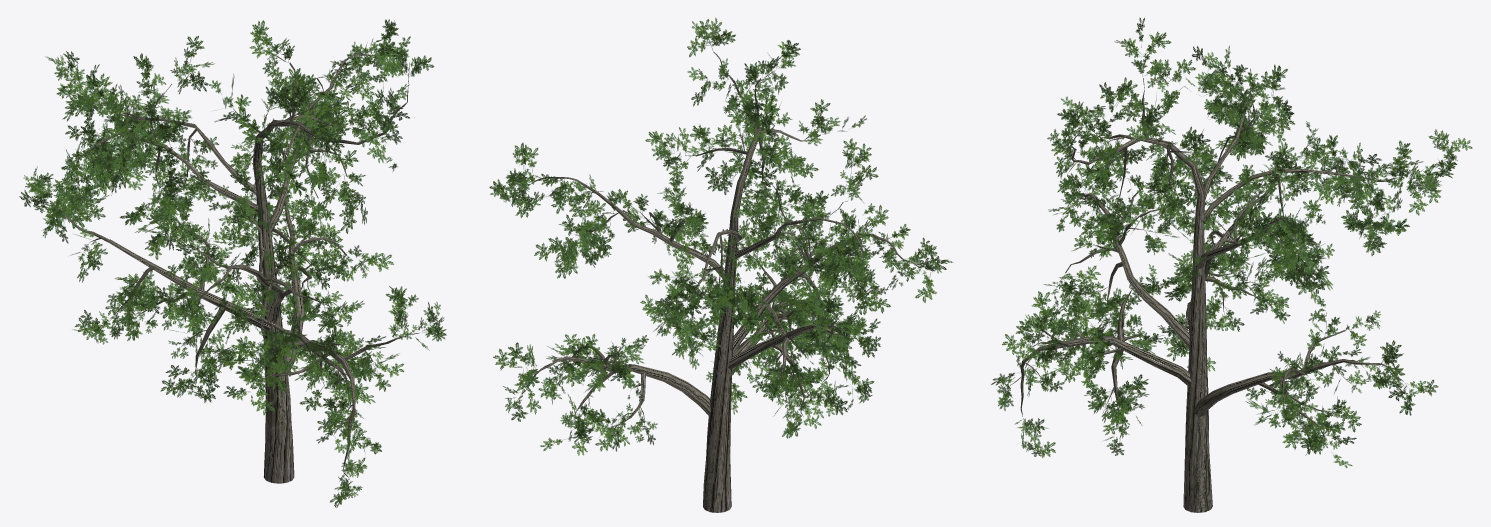
File: fresno_mediano.glb
3 views of the same model, side by side, from view 1: azimuth 30°, elevation 25°; view 2: azimuth 150°, elevation 25°; view 3: azimuth 270°, elevation 25° (orthographic). The views are drawn at different scales.
Visible parts, largest first — view 1: fresno_mediano_hojas, fresno_mediano_ramas; view 2: fresno_mediano_hojas, fresno_mediano_ramas; view 3: fresno_mediano_hojas, fresno_mediano_ramas.
Part boxes in pixels (bbox=[...]): fresno_mediano_hojas: bbox=[19, 19, 446, 507]; fresno_mediano_ramas: bbox=[42, 53, 425, 483]; fresno_mediano_hojas: bbox=[489, 17, 953, 455]; fresno_mediano_ramas: bbox=[511, 37, 924, 512]; fresno_mediano_hojas: bbox=[991, 17, 1472, 467]; fresno_mediano_ramas: bbox=[1010, 78, 1433, 512].
Bounding box in the file's own units: 9.04 × 10.7 × 10.01.
2 materials, 2 textured.
